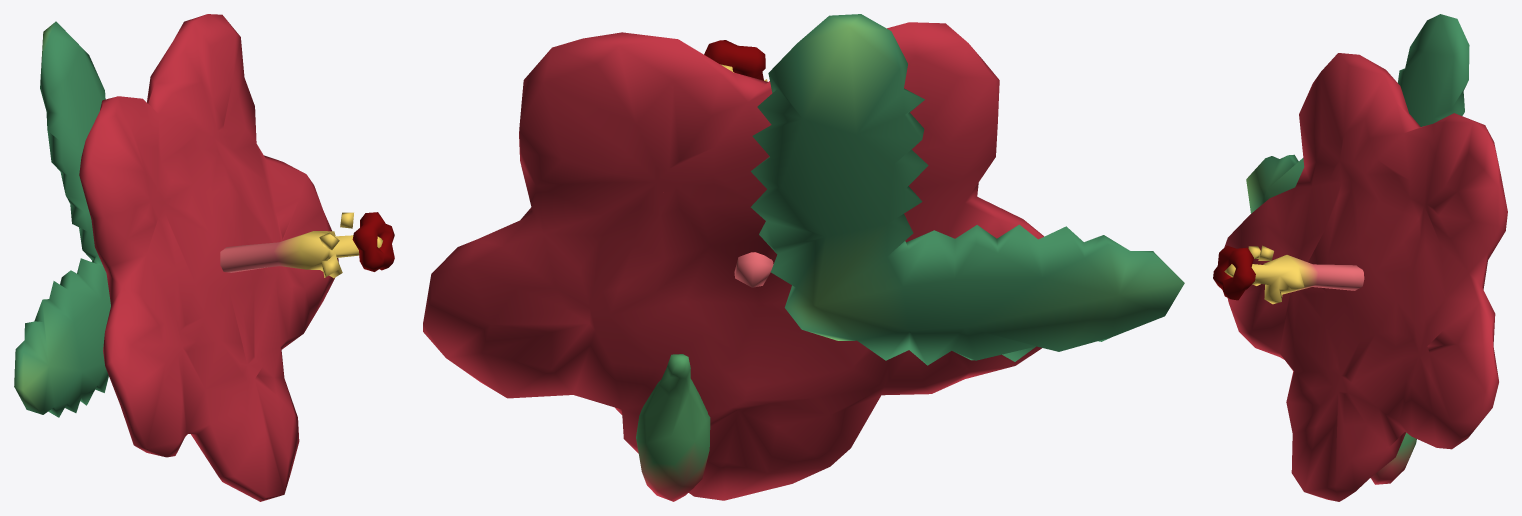
File: hoadambut.glb
3 views of the same model, side by side, from view 1: azimuth 30°, elevation 25°; view 2: azimuth 150°, elevation 25°; view 3: azimuth 270°, elevation 25° (orthographic). The views are drawn at different scales.
Parts seen in each view (by area): view 1: Canh_Hoa, La, Nhuy, Num_Nhuy; view 2: Canh_Hoa, La, Nu_Hoa, Num_Nhuy, Nhuy; view 3: Canh_Hoa, La, Nhuy, Num_Nhuy, Nu_Hoa.
Part boxes in pixels (x1,y1,x2,y2): Canh_Hoa: (79,14,338,501); La: (14,21,110,417); Nhuy: (220,212,382,278); Num_Nhuy: (352,212,394,271); Canh_Hoa: (423,22,1043,500); La: (750,14,1184,365); Nu_Hoa: (636,354,710,501); Num_Nhuy: (704,40,765,80); Nhuy: (720,64,773,287); Canh_Hoa: (1224,53,1507,501); La: (1246,14,1469,213); Nhuy: (1224,245,1364,304); Num_Nhuy: (1213,245,1255,300); Nu_Hoa: (1371,432,1416,484).
Bounding box in the file's own units: 0.1087 × 0.1052 × 0.068.
